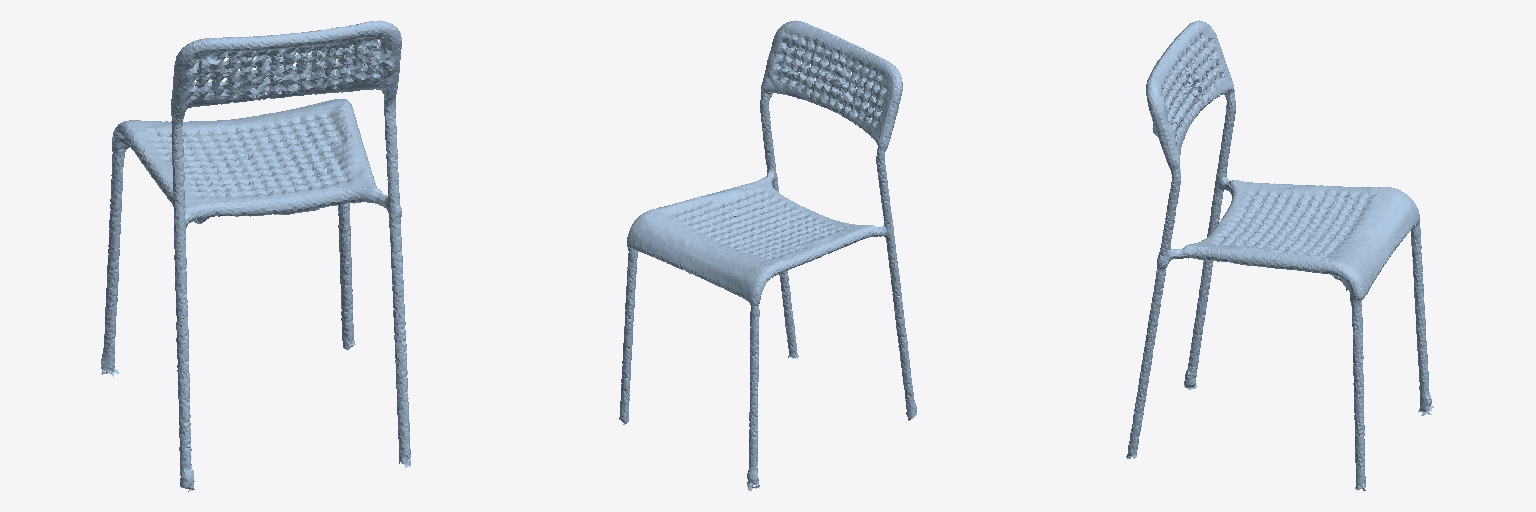
The robot description file, URDF, robot "whitechair.urdf":
<?xml version="1.0" ?>
<robot name="whitechair.urdf">
  <dynamics damping="0.5" friction="0.9"/>
  <link name="baseLink">
    <contact>
      <lateral_friction value="0.9"/>
      <rolling_friction value="0.5"/>
      <stiffness value="30000"/>
      <damping value="1000"/>
    </contact>
    <visual>
      <origin rpy="0 0 0" xyz="0 0 0"/>
      <geometry>
        <mesh filename="meshes/whitechair/whitechair.stl" scale="1.0 1.0 1.0"/>
      </geometry>
       <material name="mat">
        <color rgba="0.7 0.8 0.9 1"/>
      </material>
    </visual>
    <collision>
      <origin rpy="0 0 0" xyz="0 0 0"/>
      <geometry>
	 	<mesh filename="meshes/whitechair/whitechair.stl" scale="1.0 1.0 1.0"/>
      </geometry>
    </collision>
  </link>
</robot>

--- What the picture shows (computed from the rendered views, not written in the file) ---
The picture shows the robot from 3 angles, left to right: view 1: azimuth 30°, elevation 25°; view 2: azimuth 150°, elevation 25°; view 3: azimuth 270°, elevation 25°; orthographic projection.
Robot: whitechair.urdf — 1 links, 0 joints (none); root link baseLink; default pose: every joint at zero.
Links seen in each view (by area): view 1: baseLink; view 2: baseLink; view 3: baseLink.
Boxes of the visible links, <box> form: baseLink: <box>101,20,410,491</box>; baseLink: <box>619,20,916,490</box>; baseLink: <box>1126,20,1433,490</box>.
Size in the robot's own frame: 0.5147 by 0.5919 by 0.8028 metres.
1 mesh visuals loaded from 1 distinct referenced files (1 binary STL).
